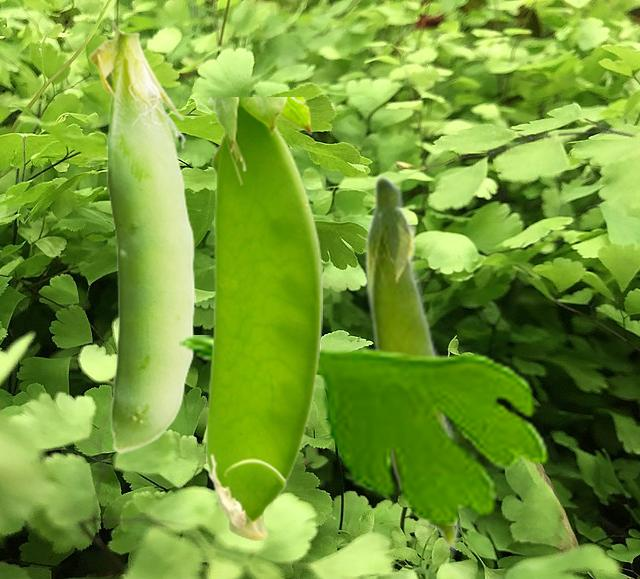pea: (206, 97, 321, 540), (88, 20, 194, 452), (363, 173, 460, 553)
